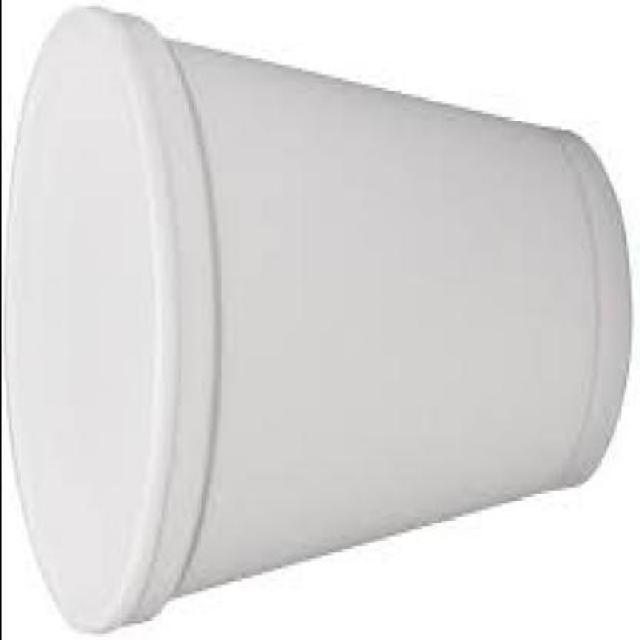PAPER: (1, 12, 622, 637)
